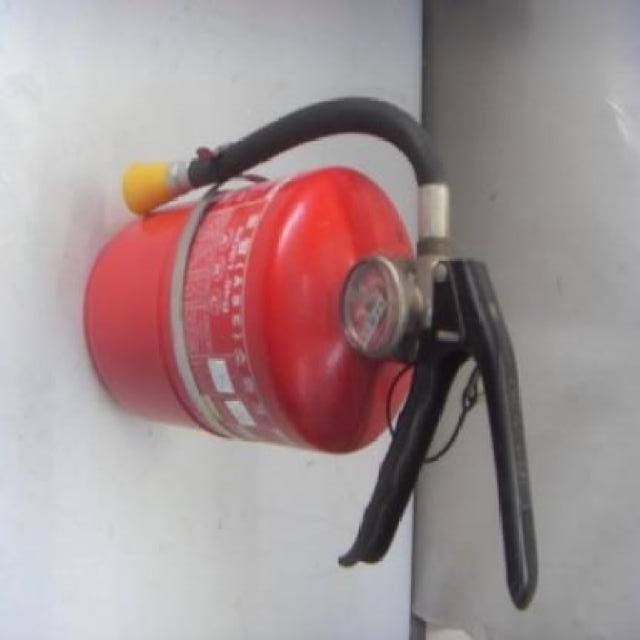fire extinguisher: (83, 97, 539, 612)
